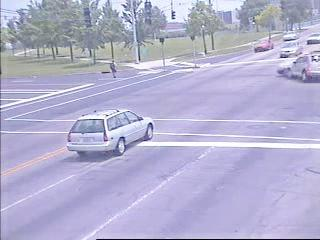Car: (66, 107, 156, 154), (289, 54, 320, 83), (272, 58, 297, 77), (251, 38, 274, 53), (281, 40, 301, 57), (305, 32, 320, 45), (282, 30, 297, 41)
Major Accident: (273, 54, 320, 83)
